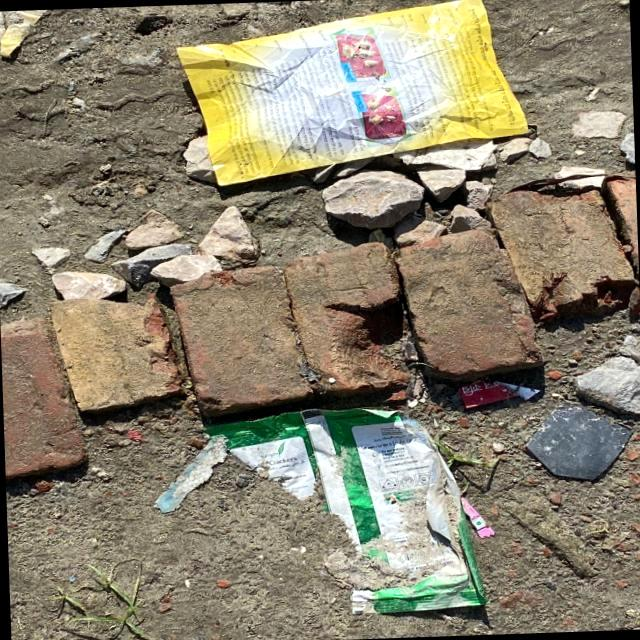packet: (189, 404, 495, 625)
